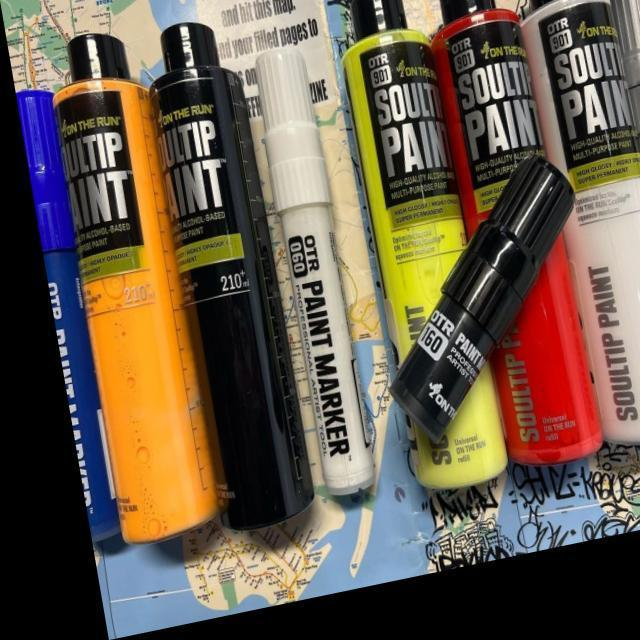-: (488, 443, 640, 572), (398, 484, 491, 586), (311, 0, 398, 42), (442, 0, 594, 21)
